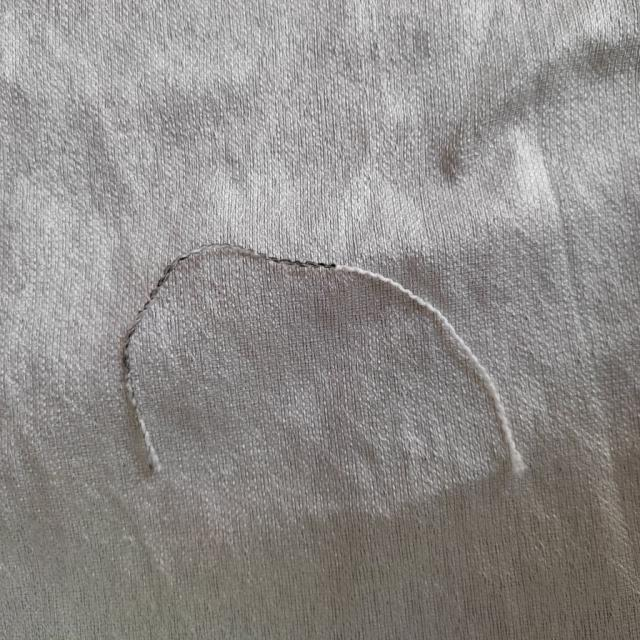Thread: (115, 238, 530, 482)
